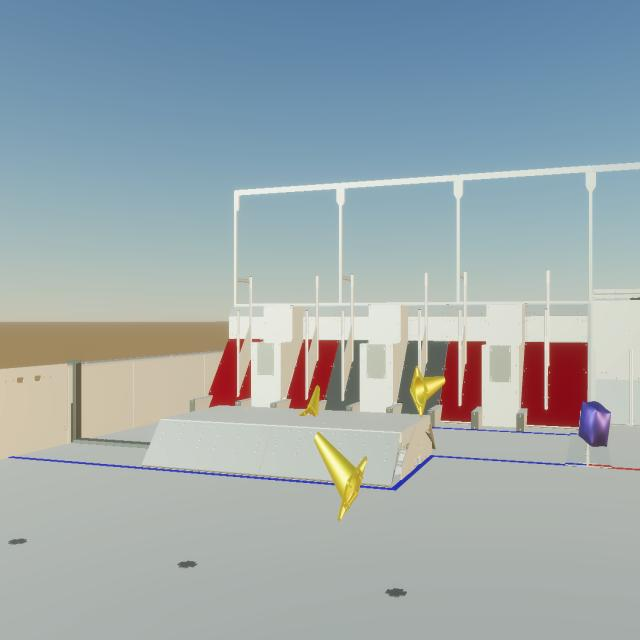frc_cone: (314, 432, 367, 522), (410, 366, 445, 417), (298, 385, 320, 417)
frc_cube: (578, 401, 611, 447)
